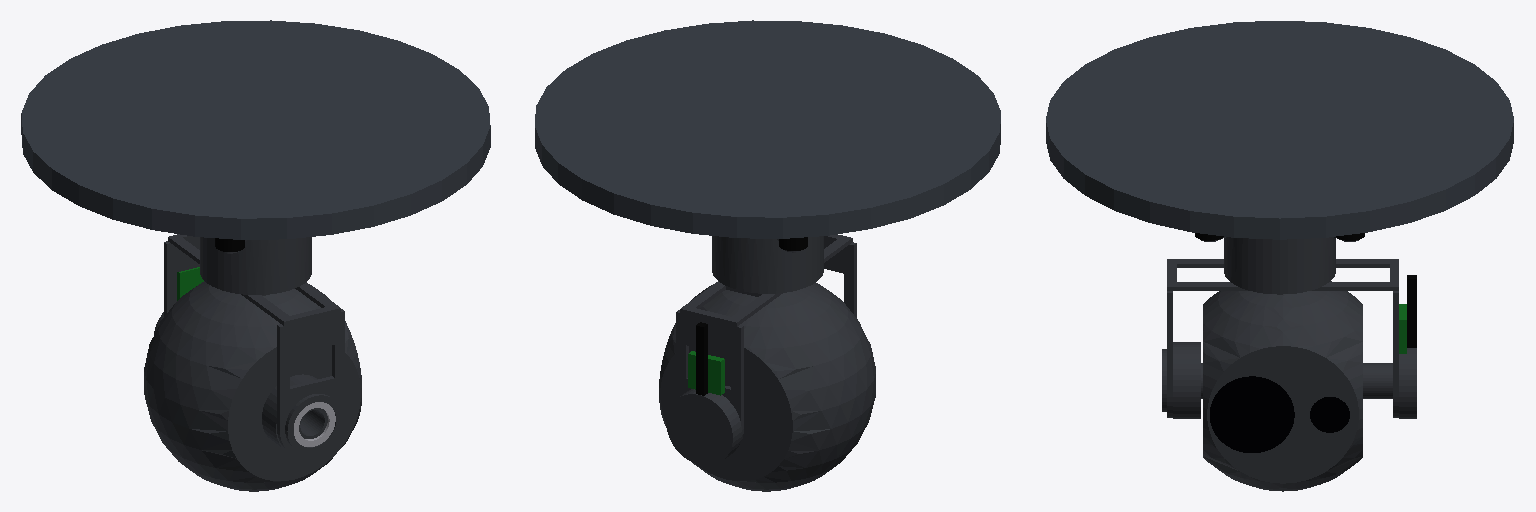
robot.urdf — akgoz_gimbal:
<?xml version='1.0' encoding='utf-8'?>
<!-- AKGOZ GIMBAL - 2 eksen (azimuth + elevation), roll yok.
     make_akgoz_urdf.py tarafindan uretildi; elle duzenlemeyin.
     Geometri ve kutle: gimbal-for-fun cad/turret.py (cad_ref/massprops.json, meshes/cad). -->
<robot name="akgoz_gimbal">
  <link name="ground">
    <inertial>
      <origin xyz="0 0 0.05" rpy="0 0 0" />
      <mass value="1" />
      <inertia ixx="0.01003333333" iyy="0.01003333333" izz="0.02" ixy="0" ixz="0" iyz="0" />
    </inertial>
    <visual>
      <origin xyz="0 0 0.05" rpy="0 0 0" />
      <geometry><cylinder radius="0.2" length="0.02" /></geometry>
      <material name="ground_material"><color rgba="0.25 0.27 0.3 1" /></material>
    </visual>
  </link>
  <link name="yaw_carrier">
    <inertial>
      <origin xyz="0 0 0" rpy="0 0 0" />
      <mass value="0.001" />
      <inertia ixx="1.6667e-08" iyy="1.6667e-08" izz="1.6667e-08" ixy="0" ixz="0" iyz="0" />
    </inertial>
  </link>
  <joint name="base_yaw" type="continuous">
    <parent link="ground" />
    <child link="yaw_carrier" />
    <origin xyz="0 0 0" rpy="0 0 0" />
    <axis xyz="0 0 1" />
  </joint>
  <link name="moving_base">
    <inertial>
      <origin xyz="-0.00209364457 -0.0003858756595 -0.04106139005" rpy="0 0 0" />
      <mass value="0.6494012481" />
      <inertia ixx="0.001061405386" iyy="0.001094943747" izz="0.001354089616" ixy="5.125241907e-07" ixz="-3.337185468e-06" iyz="-2.298161802e-07" />
    </inertial>
  </link>
  <joint name="base_pitch" type="continuous">
    <parent link="yaw_carrier" />
    <child link="moving_base" />
    <origin xyz="0 0 0" rpy="0 0 0" />
    <axis xyz="0 1 0" />
  </joint>
  <link name="azimuth_body">
    <inertial>
      <origin xyz="9.212909614e-19 -0.006817999421 0.04823722791" rpy="0 0 0" />
      <mass value="0.6424421311" />
      <inertia ixx="0.005843944708" iyy="0.00205898437" izz="0.004161459031" ixy="-1.70053407e-19" ixz="1.420739885e-21" iyz="-0.0004493716263" />
    </inertial>
  </link>
  <joint name="azimuth" type="continuous">
    <parent link="moving_base" />
    <child link="azimuth_body" />
    <origin xyz="0 0 -0.186047" rpy="0 0 0" />
    <axis xyz="0 0 1" />
  </joint>
  <link name="camera">
    <inertial>
      <origin xyz="0.0005002810195 0.002894522521 -0.0003000003313" rpy="0 0 0" />
      <mass value="1.512957393" />
      <inertia ixx="0.004837496488" iyy="0.003896641848" izz="0.005696073786" ixy="0.0002616026773" ixz="-2.270824004e-07" iyz="-1.313786804e-06" />
    </inertial>
  </link>
  <joint name="elevation" type="continuous">
    <parent link="azimuth_body" />
    <child link="camera" />
    <origin xyz="0 0 0" rpy="0 0 0" />
    <axis xyz="0 -1 0" />
  </joint>
  <link name="base_0_vis">
    <inertial>
      <origin xyz="0 0 0" rpy="0 0 0" />
      <mass value="1e-06" />
      <inertia ixx="1e-12" iyy="1e-12" izz="1e-12" ixy="0" ixz="0" iyz="0" />
    </inertial>
    <visual>
      <origin xyz="0 0 -0.186047" rpy="0 0 0" />
      <geometry><mesh filename="meshes/cad/base_0.stl" scale="1 1 1" /></geometry>
      <material name="base_0_vis_material"><color rgba="0.05 0.05 0.05 1" /></material>
    </visual>
  </link>
  <joint name="base_0_vis_mount" type="fixed">
    <parent link="moving_base" />
    <child link="base_0_vis" />
    <origin xyz="0 0 0" rpy="0 0 0" />
  </joint>
  <link name="base_1_vis">
    <inertial>
      <origin xyz="0 0 0" rpy="0 0 0" />
      <mass value="1e-06" />
      <inertia ixx="1e-12" iyy="1e-12" izz="1e-12" ixy="0" ixz="0" iyz="0" />
    </inertial>
    <visual>
      <origin xyz="0 0 -0.186047" rpy="0 0 0" />
      <geometry><mesh filename="meshes/cad/base_1.stl" scale="1 1 1" /></geometry>
      <material name="base_1_vis_material"><color rgba="0.1 0.45 0.15 1" /></material>
    </visual>
  </link>
  <joint name="base_1_vis_mount" type="fixed">
    <parent link="moving_base" />
    <child link="base_1_vis" />
    <origin xyz="0 0 0" rpy="0 0 0" />
  </joint>
  <link name="base_2_vis">
    <inertial>
      <origin xyz="0 0 0" rpy="0 0 0" />
      <mass value="1e-06" />
      <inertia ixx="1e-12" iyy="1e-12" izz="1e-12" ixy="0" ixz="0" iyz="0" />
    </inertial>
    <visual>
      <origin xyz="0 0 -0.186047" rpy="0 0 0" />
      <geometry><mesh filename="meshes/cad/base_2.stl" scale="1 1 1" /></geometry>
      <material name="base_2_vis_material"><color rgba="0.24 0.25 0.27 1" /></material>
    </visual>
  </link>
  <joint name="base_2_vis_mount" type="fixed">
    <parent link="moving_base" />
    <child link="base_2_vis" />
    <origin xyz="0 0 0" rpy="0 0 0" />
  </joint>
  <link name="base_3_vis">
    <inertial>
      <origin xyz="0 0 0" rpy="0 0 0" />
      <mass value="1e-06" />
      <inertia ixx="1e-12" iyy="1e-12" izz="1e-12" ixy="0" ixz="0" iyz="0" />
    </inertial>
    <visual>
      <origin xyz="0 0 -0.186047" rpy="0 0 0" />
      <geometry><mesh filename="meshes/cad/base_3.stl" scale="1 1 1" /></geometry>
      <material name="base_3_vis_material"><color rgba="0.5 0.51 0.53 1" /></material>
    </visual>
  </link>
  <joint name="base_3_vis_mount" type="fixed">
    <parent link="moving_base" />
    <child link="base_3_vis" />
    <origin xyz="0 0 0" rpy="0 0 0" />
  </joint>
  <link name="base_4_vis">
    <inertial>
      <origin xyz="0 0 0" rpy="0 0 0" />
      <mass value="1e-06" />
      <inertia ixx="1e-12" iyy="1e-12" izz="1e-12" ixy="0" ixz="0" iyz="0" />
    </inertial>
    <visual>
      <origin xyz="0 0 -0.186047" rpy="0 0 0" />
      <geometry><mesh filename="meshes/cad/base_4.stl" scale="1 1 1" /></geometry>
      <material name="base_4_vis_material"><color rgba="0.55 0.42 0.25 1" /></material>
    </visual>
  </link>
  <joint name="base_4_vis_mount" type="fixed">
    <parent link="moving_base" />
    <child link="base_4_vis" />
    <origin xyz="0 0 0" rpy="0 0 0" />
  </joint>
  <link name="base_5_vis">
    <inertial>
      <origin xyz="0 0 0" rpy="0 0 0" />
      <mass value="1e-06" />
      <inertia ixx="1e-12" iyy="1e-12" izz="1e-12" ixy="0" ixz="0" iyz="0" />
    </inertial>
    <visual>
      <origin xyz="0 0 -0.186047" rpy="0 0 0" />
      <geometry><mesh filename="meshes/cad/base_5.stl" scale="1 1 1" /></geometry>
      <material name="base_5_vis_material"><color rgba="0.65 0.65 0.68 1" /></material>
    </visual>
  </link>
  <joint name="base_5_vis_mount" type="fixed">
    <parent link="moving_base" />
    <child link="base_5_vis" />
    <origin xyz="0 0 0" rpy="0 0 0" />
  </joint>
  <link name="yaw_body_0_vis">
    <inertial>
      <origin xyz="0 0 0" rpy="0 0 0" />
      <mass value="1e-06" />
      <inertia ixx="1e-12" iyy="1e-12" izz="1e-12" ixy="0" ixz="0" iyz="0" />
    </inertial>
    <visual>
      <origin xyz="0 0 0" rpy="0 0 0" />
      <geometry><mesh filename="meshes/cad/yaw_body_0.stl" scale="1 1 1" /></geometry>
      <material name="yaw_body_0_vis_material"><color rgba="0.05 0.05 0.05 1" /></material>
    </visual>
  </link>
  <joint name="yaw_body_0_vis_mount" type="fixed">
    <parent link="azimuth_body" />
    <child link="yaw_body_0_vis" />
    <origin xyz="0 0 0" rpy="0 0 0" />
  </joint>
  <link name="yaw_body_1_vis">
    <inertial>
      <origin xyz="0 0 0" rpy="0 0 0" />
      <mass value="1e-06" />
      <inertia ixx="1e-12" iyy="1e-12" izz="1e-12" ixy="0" ixz="0" iyz="0" />
    </inertial>
    <visual>
      <origin xyz="0 0 0" rpy="0 0 0" />
      <geometry><mesh filename="meshes/cad/yaw_body_1.stl" scale="1 1 1" /></geometry>
      <material name="yaw_body_1_vis_material"><color rgba="0.1 0.45 0.15 1" /></material>
    </visual>
  </link>
  <joint name="yaw_body_1_vis_mount" type="fixed">
    <parent link="azimuth_body" />
    <child link="yaw_body_1_vis" />
    <origin xyz="0 0 0" rpy="0 0 0" />
  </joint>
  <link name="yaw_body_2_vis">
    <inertial>
      <origin xyz="0 0 0" rpy="0 0 0" />
      <mass value="1e-06" />
      <inertia ixx="1e-12" iyy="1e-12" izz="1e-12" ixy="0" ixz="0" iyz="0" />
    </inertial>
    <visual>
      <origin xyz="0 0 0" rpy="0 0 0" />
      <geometry><mesh filename="meshes/cad/yaw_body_2.stl" scale="1 1 1" /></geometry>
      <material name="yaw_body_2_vis_material"><color rgba="0.24 0.25 0.27 1" /></material>
    </visual>
  </link>
  <joint name="yaw_body_2_vis_mount" type="fixed">
    <parent link="azimuth_body" />
    <child link="yaw_body_2_vis" />
    <origin xyz="0 0 0" rpy="0 0 0" />
  </joint>
  <link name="yaw_body_3_vis">
    <inertial>
      <origin xyz="0 0 0" rpy="0 0 0" />
      <mass value="1e-06" />
      <inertia ixx="1e-12" iyy="1e-12" izz="1e-12" ixy="0" ixz="0" iyz="0" />
    </inertial>
    <visual>
      <origin xyz="0 0 0" rpy="0 0 0" />
      <geometry><mesh filename="meshes/cad/yaw_body_3.stl" scale="1 1 1" /></geometry>
      <material name="yaw_body_3_vis_material"><color rgba="0.55 0.42 0.25 1" /></material>
    </visual>
  </link>
  <joint name="yaw_body_3_vis_mount" type="fixed">
    <parent link="azimuth_body" />
    <child link="yaw_body_3_vis" />
    <origin xyz="0 0 0" rpy="0 0 0" />
  </joint>
  <link name="yaw_body_4_vis">
    <inertial>
      <origin xyz="0 0 0" rpy="0 0 0" />
      <mass value="1e-06" />
      <inertia ixx="1e-12" iyy="1e-12" izz="1e-12" ixy="0" ixz="0" iyz="0" />
    </inertial>
    <visual>
      <origin xyz="0 0 0" rpy="0 0 0" />
      <geometry><mesh filename="meshes/cad/yaw_body_4.stl" scale="1 1 1" /></geometry>
      <material name="yaw_body_4_vis_material"><color rgba="0.65 0.65 0.68 1" /></material>
    </visual>
  </link>
  <joint name="yaw_body_4_vis_mount" type="fixed">
    <parent link="azimuth_body" />
    <child link="yaw_body_4_vis" />
    <origin xyz="0 0 0" rpy="0 0 0" />
  </joint>
  <link name="pitch_body_0_vis">
    <inertial>
      <origin xyz="0 0 0" rpy="0 0 0" />
      <mass value="1e-06" />
      <inertia ixx="1e-12" iyy="1e-12" izz="1e-12" ixy="0" ixz="0" iyz="0" />
    </inertial>
    <visual>
      <origin xyz="0 0 0" rpy="0 0 0" />
      <geometry><mesh filename="meshes/cad/pitch_body_0.stl" scale="1 1 1" /></geometry>
      <material name="pitch_body_0_vis_material"><color rgba="0.02 0.02 0.03 1" /></material>
    </visual>
  </link>
  <joint name="pitch_body_0_vis_mount" type="fixed">
    <parent link="camera" />
    <child link="pitch_body_0_vis" />
    <origin xyz="0 0 0" rpy="0 0 0" />
  </joint>
  <link name="pitch_body_1_vis">
    <inertial>
      <origin xyz="0 0 0" rpy="0 0 0" />
      <mass value="1e-06" />
      <inertia ixx="1e-12" iyy="1e-12" izz="1e-12" ixy="0" ixz="0" iyz="0" />
    </inertial>
    <visual>
      <origin xyz="0 0 0" rpy="0 0 0" />
      <geometry><mesh filename="meshes/cad/pitch_body_1.stl" scale="1 1 1" /></geometry>
      <material name="pitch_body_1_vis_material"><color rgba="0.05 0.05 0.05 1" /></material>
    </visual>
  </link>
  <joint name="pitch_body_1_vis_mount" type="fixed">
    <parent link="camera" />
    <child link="pitch_body_1_vis" />
    <origin xyz="0 0 0" rpy="0 0 0" />
  </joint>
  <link name="pitch_body_2_vis">
    <inertial>
      <origin xyz="0 0 0" rpy="0 0 0" />
      <mass value="1e-06" />
      <inertia ixx="1e-12" iyy="1e-12" izz="1e-12" ixy="0" ixz="0" iyz="0" />
    </inertial>
    <visual>
      <origin xyz="0 0 0" rpy="0 0 0" />
      <geometry><mesh filename="meshes/cad/pitch_body_2.stl" scale="1 1 1" /></geometry>
      <material name="pitch_body_2_vis_material"><color rgba="0.1 0.3 0.55 1" /></material>
    </visual>
  </link>
  <joint name="pitch_body_2_vis_mount" type="fixed">
    <parent link="camera" />
    <child link="pitch_body_2_vis" />
    <origin xyz="0 0 0" rpy="0 0 0" />
  </joint>
  <link name="pitch_body_3_vis">
    <inertial>
      <origin xyz="0 0 0" rpy="0 0 0" />
      <mass value="1e-06" />
      <inertia ixx="1e-12" iyy="1e-12" izz="1e-12" ixy="0" ixz="0" iyz="0" />
    </inertial>
    <visual>
      <origin xyz="0 0 0" rpy="0 0 0" />
      <geometry><mesh filename="meshes/cad/pitch_body_3.stl" scale="1 1 1" /></geometry>
      <material name="pitch_body_3_vis_material"><color rgba="0.1 0.45 0.15 1" /></material>
    </visual>
  </link>
  <joint name="pitch_body_3_vis_mount" type="fixed">
    <parent link="camera" />
    <child link="pitch_body_3_vis" />
    <origin xyz="0 0 0" rpy="0 0 0" />
  </joint>
  <link name="pitch_body_4_vis">
    <inertial>
      <origin xyz="0 0 0" rpy="0 0 0" />
      <mass value="1e-06" />
      <inertia ixx="1e-12" iyy="1e-12" izz="1e-12" ixy="0" ixz="0" iyz="0" />
    </inertial>
    <visual>
      <origin xyz="0 0 0" rpy="0 0 0" />
      <geometry><mesh filename="meshes/cad/pitch_body_4.stl" scale="1 1 1" /></geometry>
      <material name="pitch_body_4_vis_material"><color rgba="0.24 0.25 0.27 1" /></material>
    </visual>
  </link>
  <joint name="pitch_body_4_vis_mount" type="fixed">
    <parent link="camera" />
    <child link="pitch_body_4_vis" />
    <origin xyz="0 0 0" rpy="0 0 0" />
  </joint>
  <link name="pitch_body_5_vis">
    <inertial>
      <origin xyz="0 0 0" rpy="0 0 0" />
      <mass value="1e-06" />
      <inertia ixx="1e-12" iyy="1e-12" izz="1e-12" ixy="0" ixz="0" iyz="0" />
    </inertial>
    <visual>
      <origin xyz="0 0 0" rpy="0 0 0" />
      <geometry><mesh filename="meshes/cad/pitch_body_5.stl" scale="1 1 1" /></geometry>
      <material name="pitch_body_5_vis_material"><color rgba="0.55 0.42 0.25 1" /></material>
    </visual>
  </link>
  <joint name="pitch_body_5_vis_mount" type="fixed">
    <parent link="camera" />
    <child link="pitch_body_5_vis" />
    <origin xyz="0 0 0" rpy="0 0 0" />
  </joint>
</robot>

--- Render facts (derived) ---
Views: 3 orthographic renders of the robot side by side, from view 1: azimuth 30°, elevation 25°; view 2: azimuth 150°, elevation 25°; view 3: azimuth 270°, elevation 25°.
Model akgoz_gimbal with 22 links and 21 joints (4 continuous, 17 fixed), rooted at ground, posed every joint at zero.
Visible links, largest first — view 1: ground, pitch_body_4_vis, yaw_body_2_vis, base_2_vis, yaw_body_4_vis, yaw_body_1_vis; view 2: ground, pitch_body_4_vis, yaw_body_2_vis, base_2_vis, yaw_body_1_vis, yaw_body_0_vis; view 3: ground, pitch_body_4_vis, yaw_body_2_vis, pitch_body_0_vis, base_2_vis, yaw_body_0_vis.
Boxes of the visible links, left/top/right/bottom form: ground: left=21, top=20, right=490, bottom=239; pitch_body_4_vis: left=144, top=281, right=361, bottom=491; yaw_body_2_vis: left=154, top=234, right=344, bottom=457; base_2_vis: left=200, top=237, right=311, bottom=294; yaw_body_4_vis: left=294, top=402, right=335, bottom=446; yaw_body_1_vis: left=177, top=267, right=203, bottom=300; ground: left=535, top=20, right=1000, bottom=238; pitch_body_4_vis: left=659, top=283, right=875, bottom=491; yaw_body_2_vis: left=666, top=234, right=856, bottom=465; base_2_vis: left=712, top=236, right=823, bottom=293; yaw_body_1_vis: left=688, top=351, right=724, bottom=395; yaw_body_0_vis: left=696, top=322, right=707, bottom=395; ground: left=1046, top=21, right=1513, bottom=239; pitch_body_4_vis: left=1201, top=281, right=1392, bottom=491; yaw_body_2_vis: left=1162, top=259, right=1416, bottom=418; pitch_body_0_vis: left=1210, top=376, right=1349, bottom=452; base_2_vis: left=1201, top=237, right=1358, bottom=294; yaw_body_0_vis: left=1407, top=275, right=1416, bottom=347.
Bounding box of the posed robot: 0.4 × 0.4 × 0.3406 m (x, y, z).
17 mesh visuals loaded from 17 distinct referenced files (17 binary STL).
